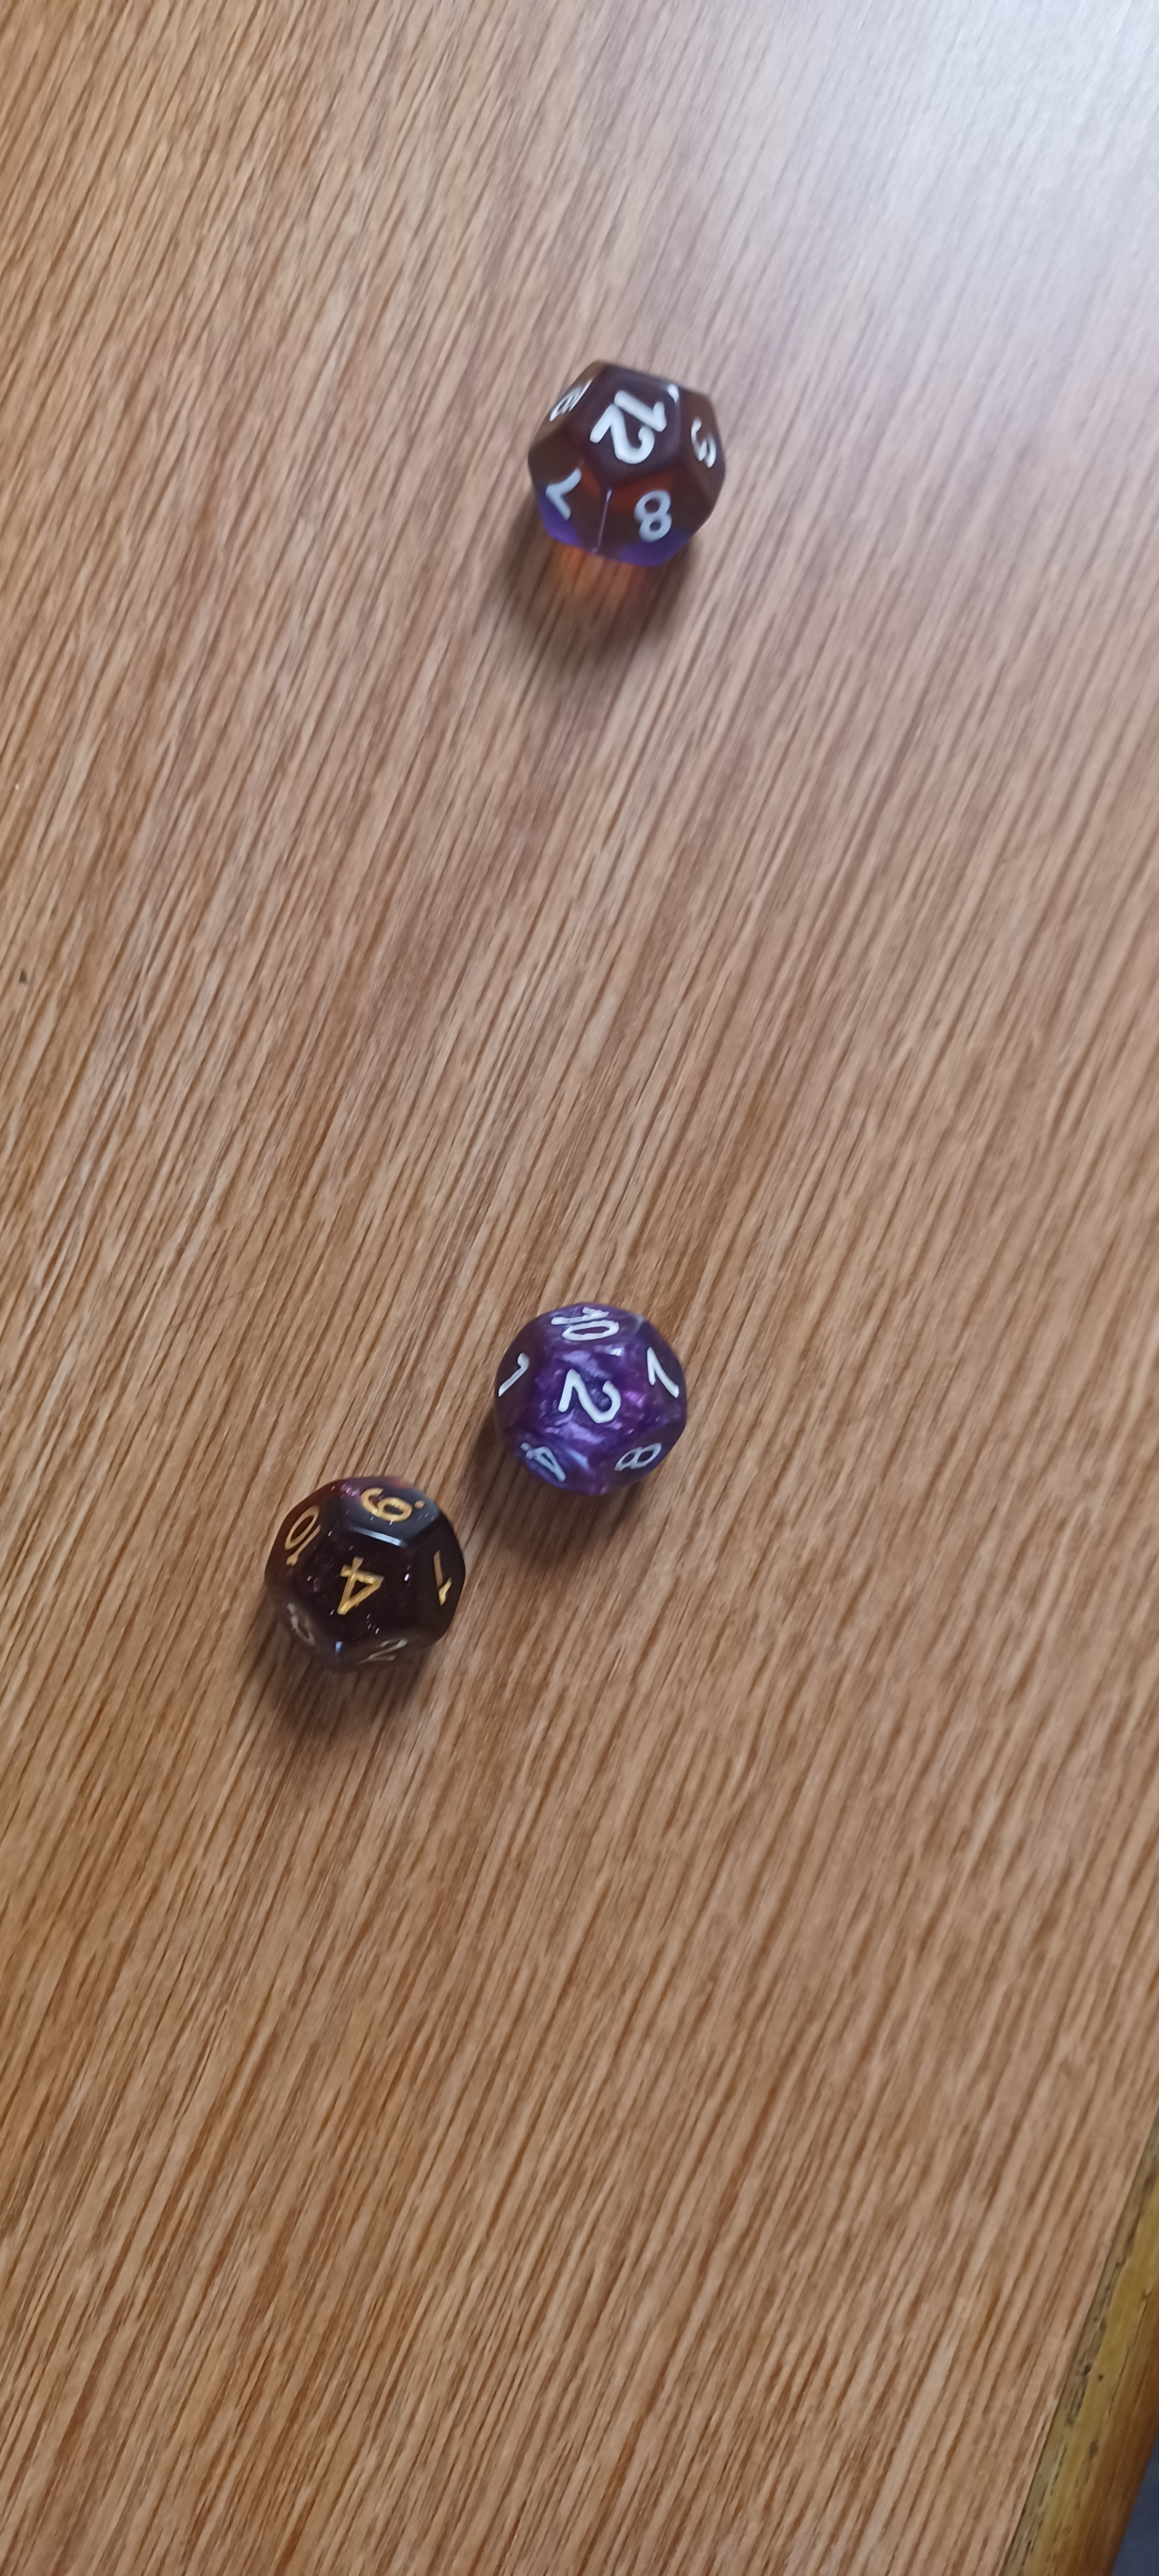four: (220, 1441, 506, 1697)
twelve: (466, 299, 808, 626)
two: (447, 1249, 740, 1534)
